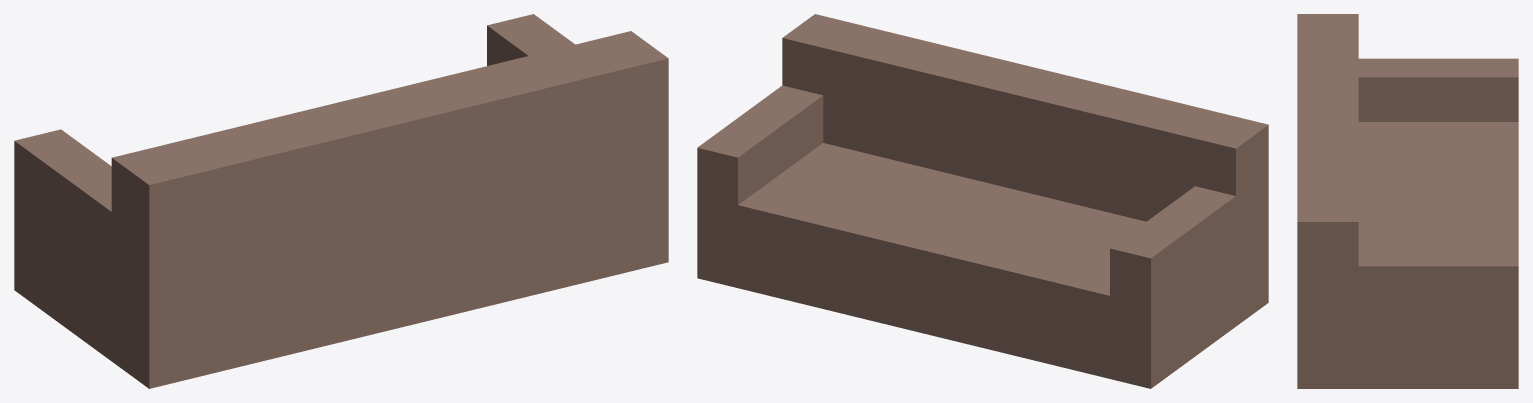
The model's file is sofa.gltf.
3 renders of one model, left to right at view 1: azimuth 30°, elevation 25°; view 2: azimuth 150°, elevation 25°; view 3: azimuth 270°, elevation 25°, orthographic. The views are drawn at different scales.
Visible parts, largest first — view 1: sofa; view 2: sofa; view 3: sofa.
Boxes of the visible parts, <box> form: sofa: <box>14,14,668,388</box>; sofa: <box>697,14,1268,388</box>; sofa: <box>1297,14,1518,388</box>.
Size of the model in its own units: 2 by 0.75 by 0.9.
